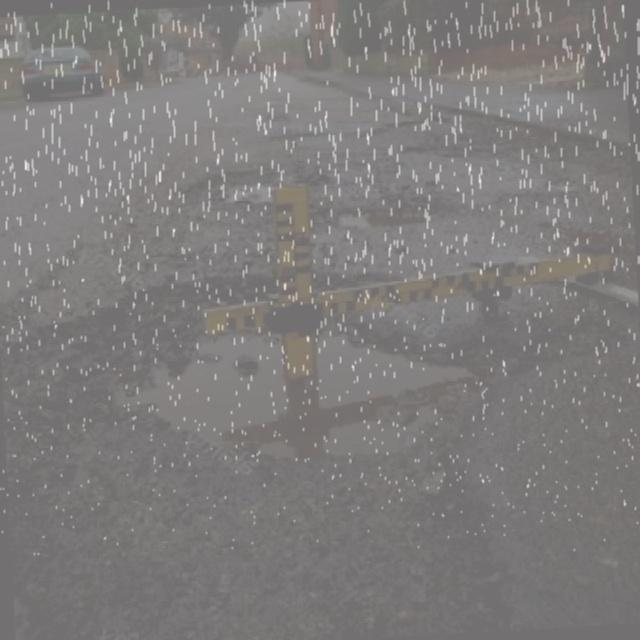Pothole: (26, 262, 540, 522), (330, 188, 454, 242), (213, 163, 279, 194)
